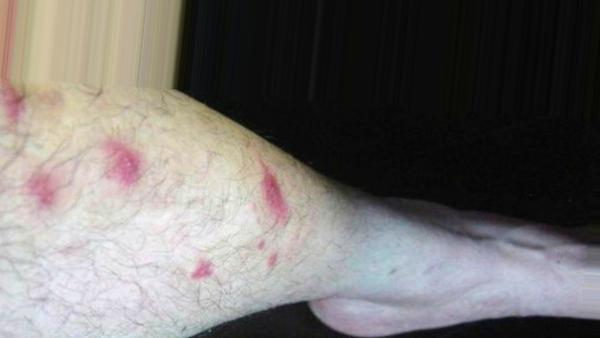Mosquito: (92, 138, 148, 190), (251, 162, 294, 228), (22, 165, 67, 211), (0, 85, 26, 122), (187, 256, 216, 281), (255, 238, 271, 254), (267, 255, 277, 269)
